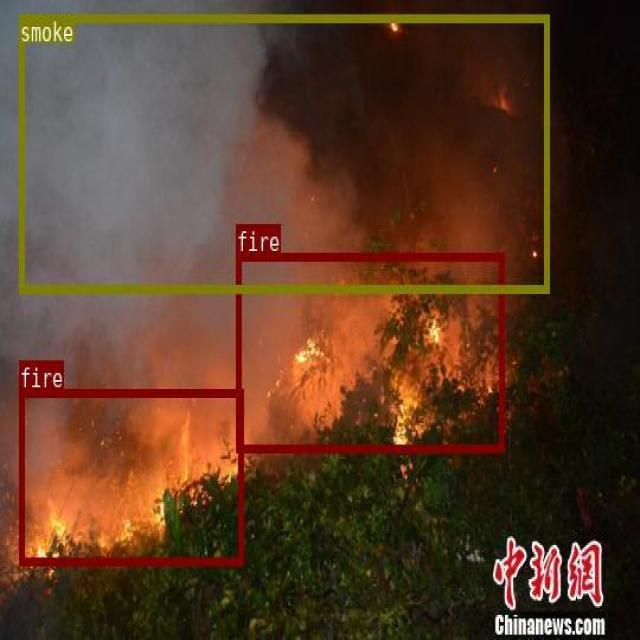fire: (235, 253, 503, 451), (19, 388, 242, 564)
smoke: (18, 14, 548, 291)
